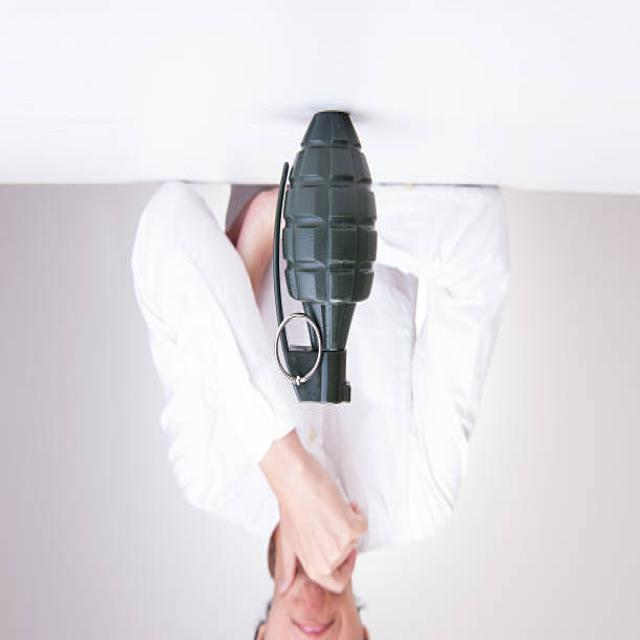grenade: (269, 106, 389, 421)
